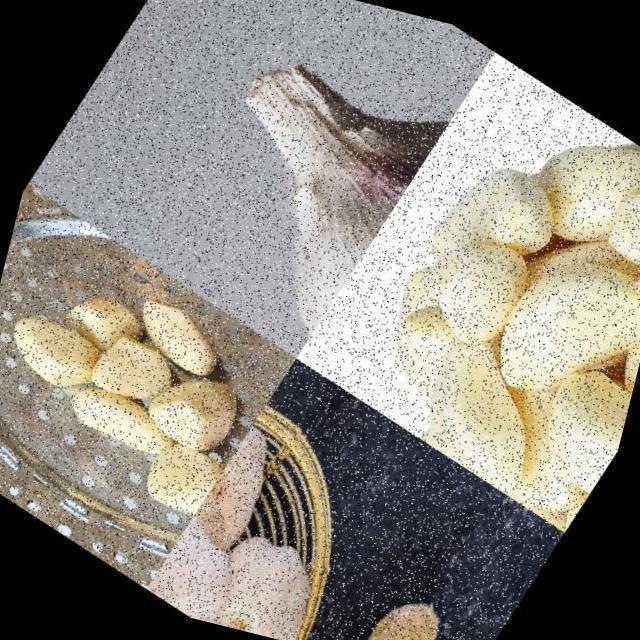garlic: (309, 47, 640, 539), (131, 0, 483, 369), (0, 221, 304, 539), (161, 408, 303, 600), (185, 509, 342, 640), (301, 549, 501, 640), (142, 511, 260, 629)
